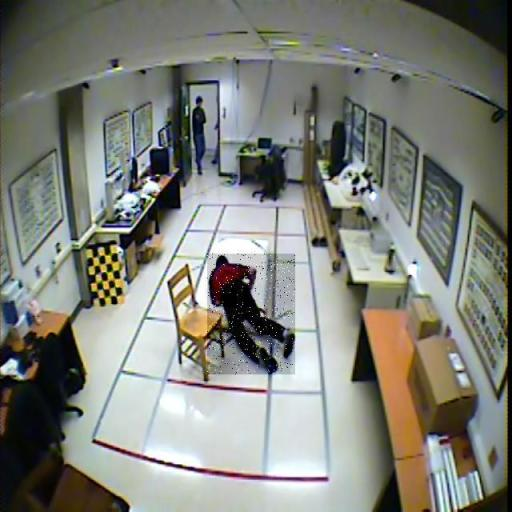Fall: (207, 254, 295, 375)
